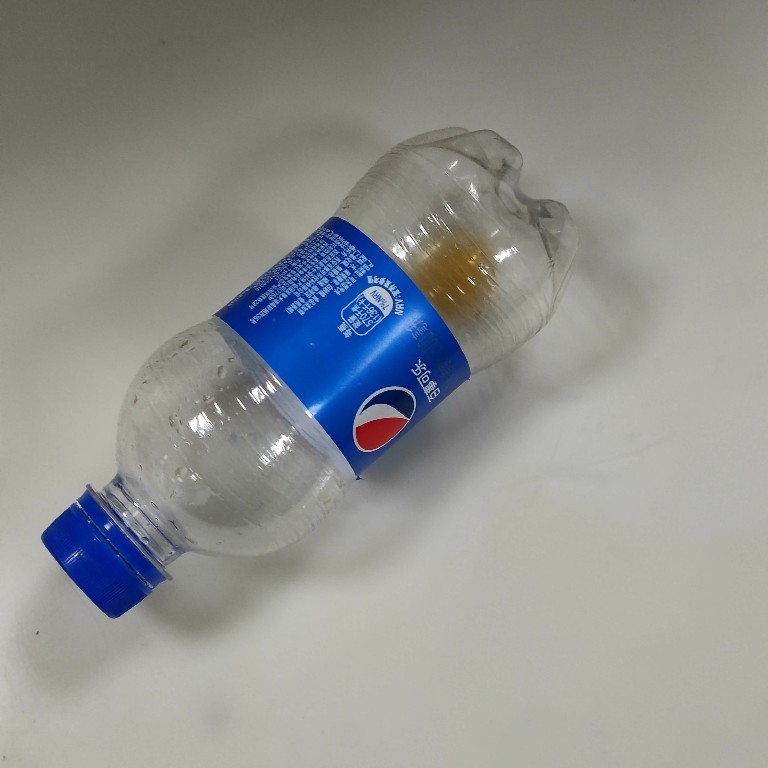bottle: (37, 116, 578, 622)
